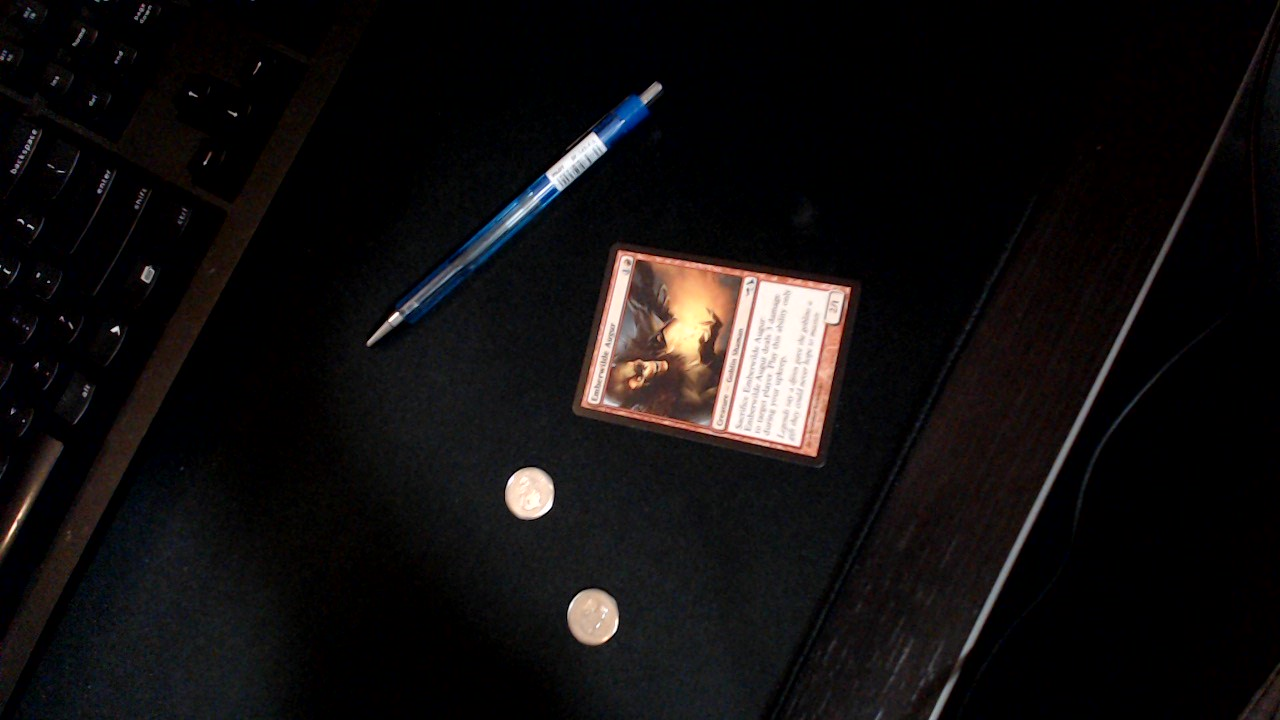MTG Card: (556, 236, 885, 474)
